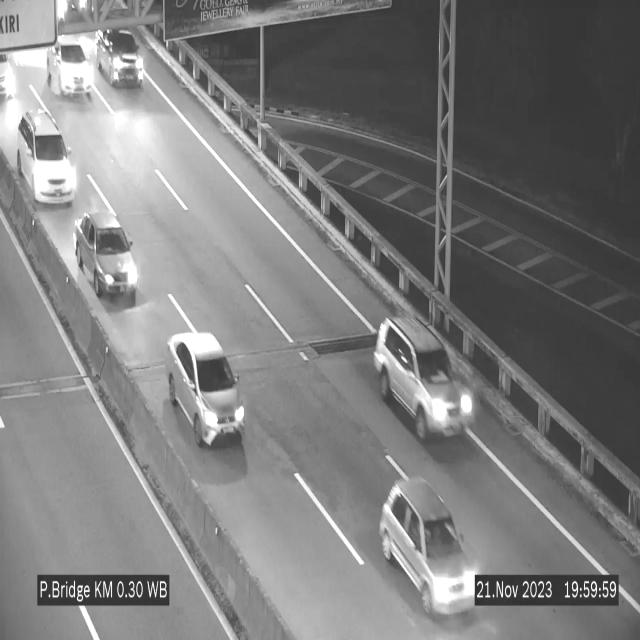Car: (379, 474, 478, 620), (373, 310, 473, 446), (167, 332, 246, 447), (74, 200, 138, 298), (17, 108, 77, 206), (47, 34, 91, 99), (97, 29, 145, 86), (0, 49, 18, 98)
